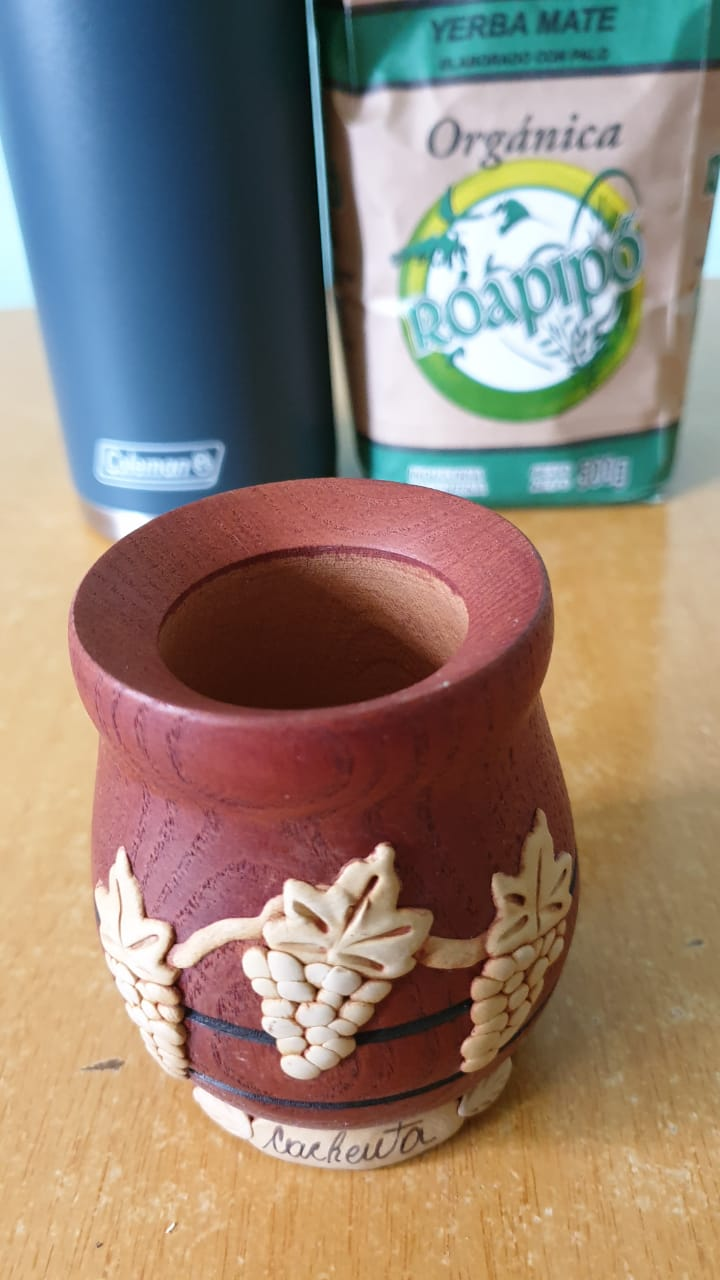madera: (45, 484, 643, 1166)
mate: (32, 486, 633, 1153)
